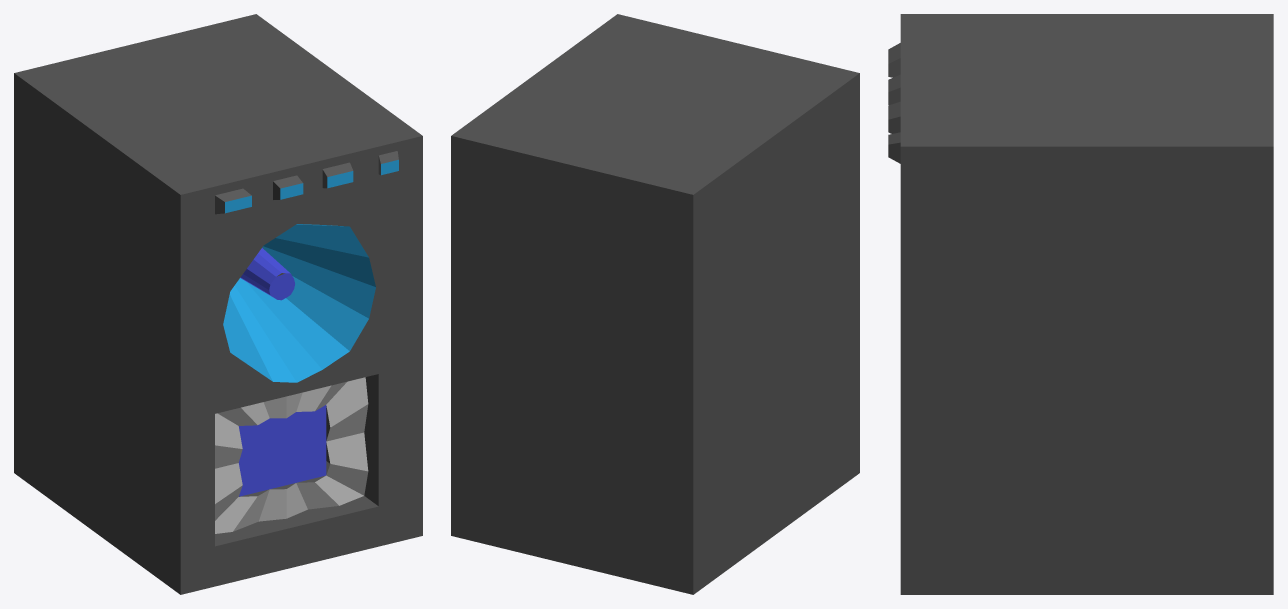
The model's file is speaker.gltf.
3 views of the same model, side by side, from view 1: azimuth 30°, elevation 25°; view 2: azimuth 150°, elevation 25°; view 3: azimuth 270°, elevation 25° (orthographic). The views are drawn at different scales.
Parts seen in each view (by area): view 1: Cube; view 2: Cube; view 3: Cube.
Boxes of the visible parts, x1,y1,x2,y2 form: Cube: (14, 14, 422, 594); Cube: (451, 14, 859, 594); Cube: (888, 14, 1273, 594).
Size of the model in its own units: 0.8437 by 1.33 by 1.04.
